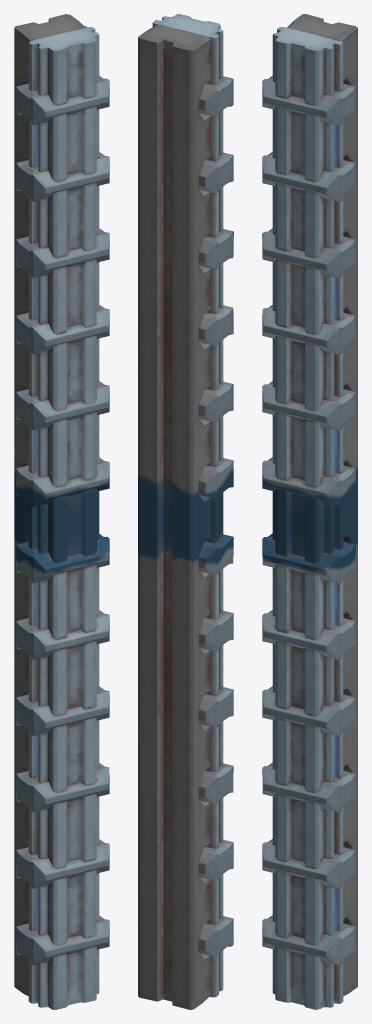
File: Tek Thin Beam.glb
3 renders of one model, left to right at view 1: azimuth 30°, elevation 25°; view 2: azimuth 150°, elevation 25°; view 3: azimuth 330°, elevation 25°, orthographic.
Parts seen in each view (by area): view 1: SM_Tek_PillarThin; view 2: SM_Tek_PillarThin; view 3: SM_Tek_PillarThin.
Boxes of the visible parts, x1,y1,x2,y2 form: SM_Tek_PillarThin: (14, 14, 109, 1009); SM_Tek_PillarThin: (138, 14, 233, 1009); SM_Tek_PillarThin: (262, 14, 357, 1009).
Bounding box in the file's own units: 0.2517 × 3 × 0.2053.
Materials: 1 (1 with a texture image).
